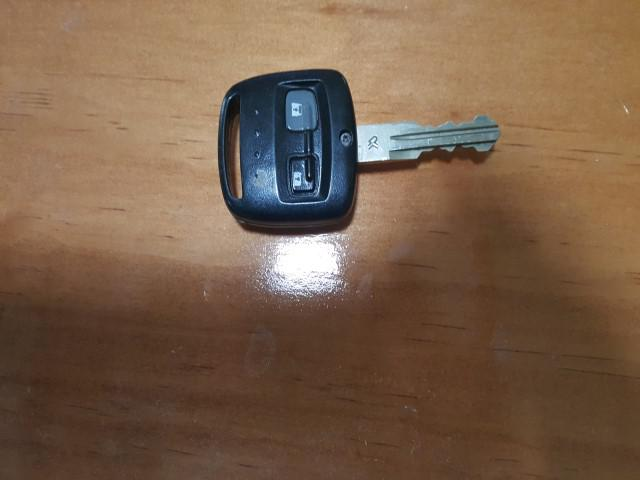key: (216, 69, 500, 480)
